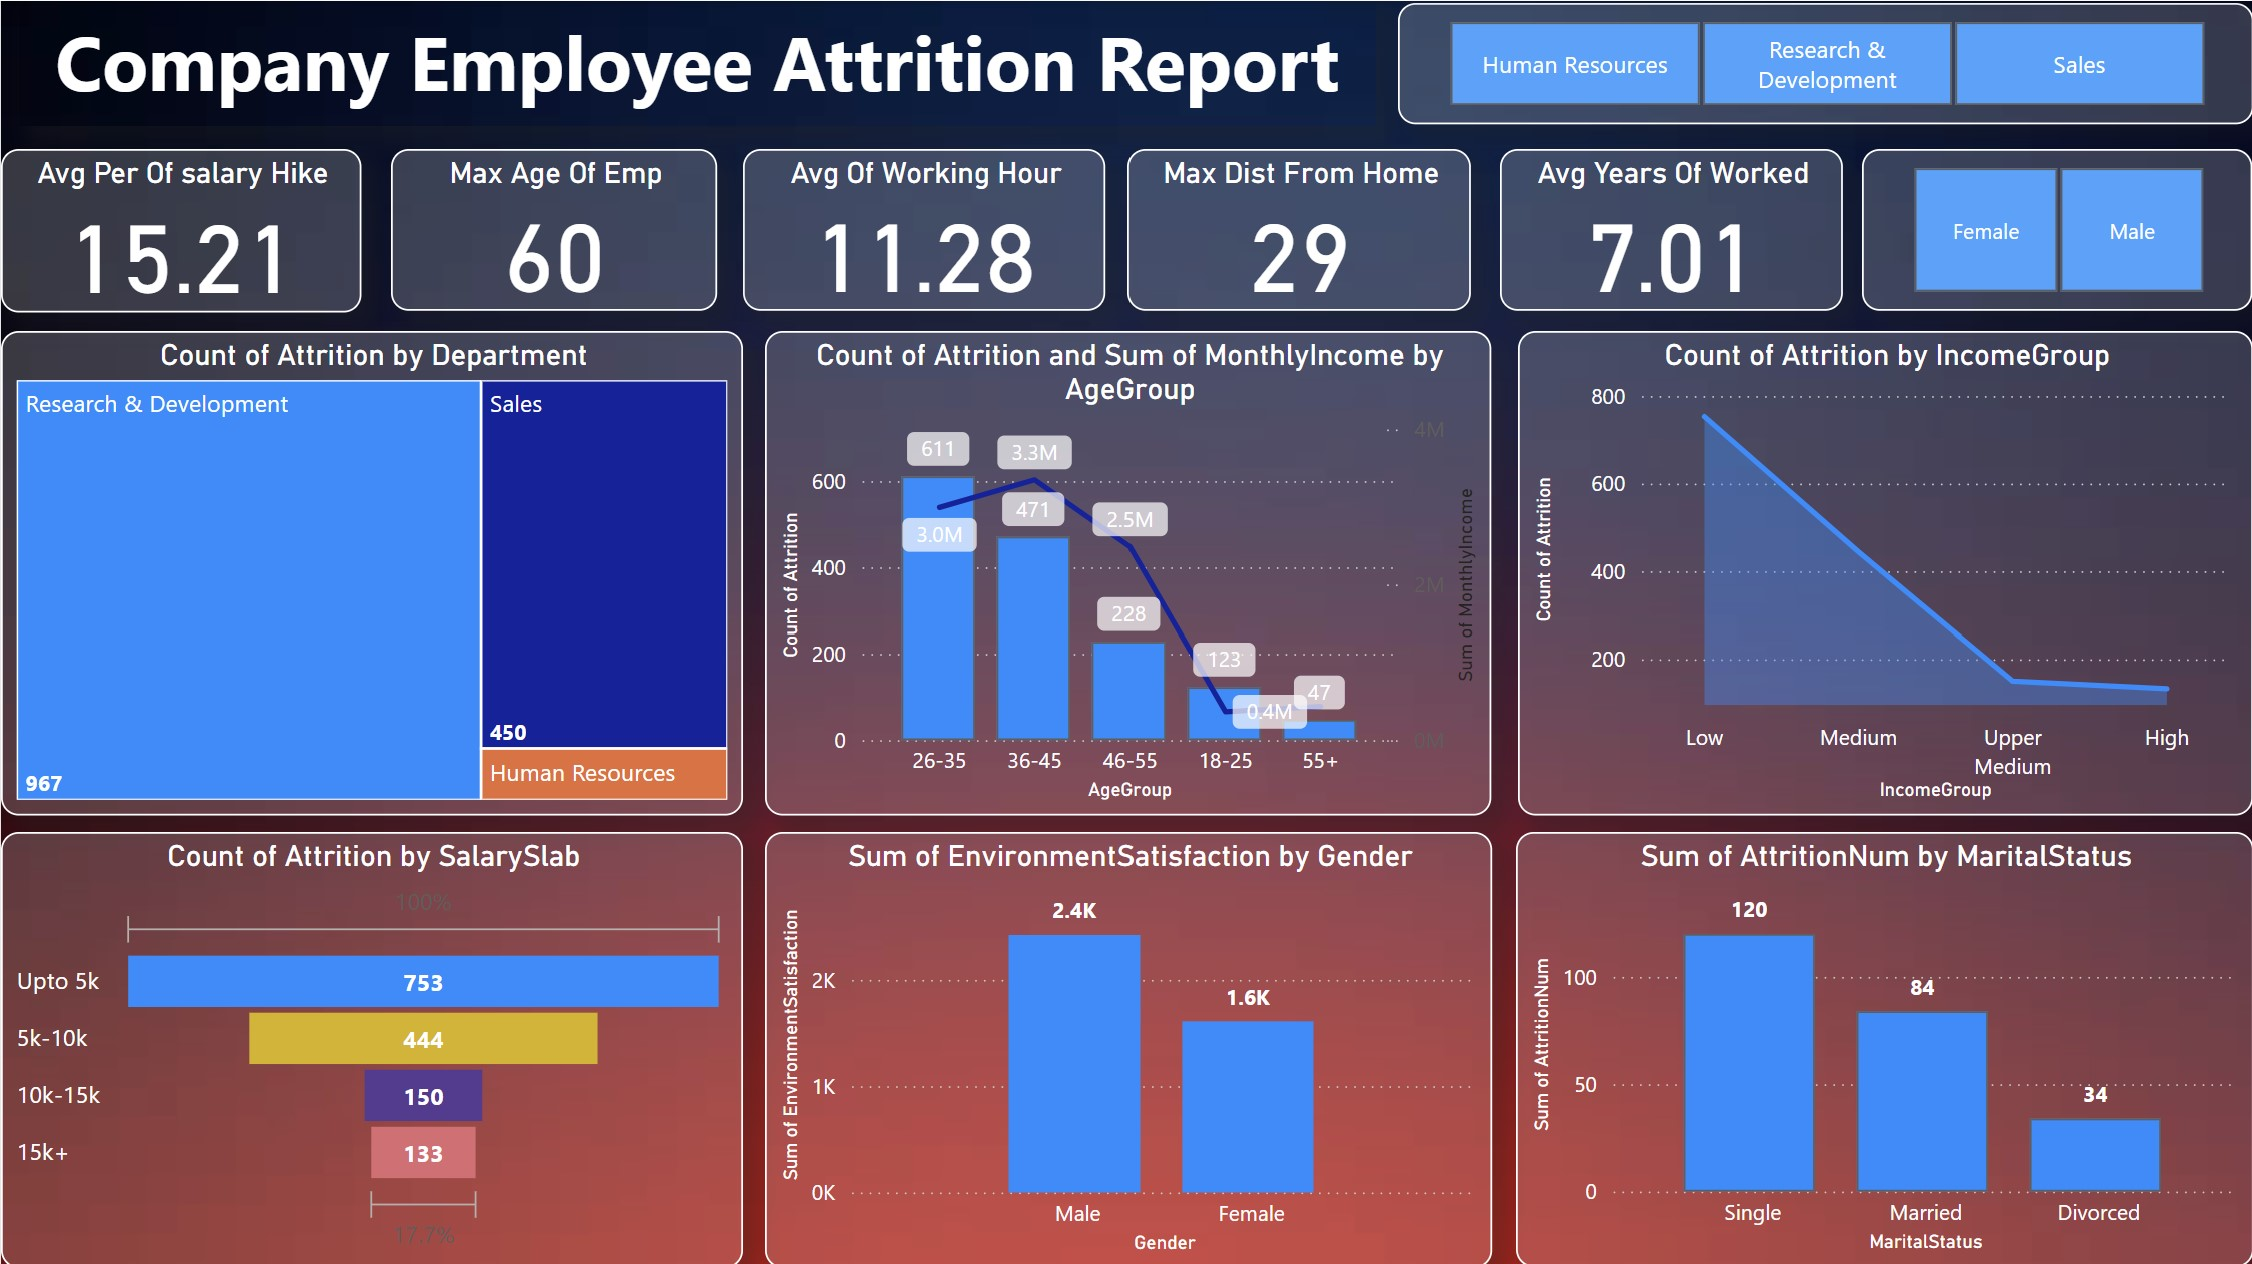

This screenshot's page, from the dashboard's own definition file:
{"tool":"powerbi","page":{"name":"Page 2","canvas":[1280,720],"ordinal":1},"visuals":[{"type":"textbox","box":[9.9,0,771,70.8],"z":0},{"type":"slicer","fields":{"Values":["HR_Analytics.Department"]},"box":[793.7,1.4,486.3,69.1],"z":1000},{"type":"card","title":"Avg Per Of salary Hike","fields":{"Values":["Avg(HR_Analytics.PercentSalaryHike)"]},"box":[0,83.6,205,93.1],"z":2000},{"type":"card","title":"Avg Of Working Hour","fields":{"Values":["Avg(HR_Analytics.TotalWorkingYears)"]},"box":[422.1,83.9,206.2,92.1],"z":3000},{"type":"card","title":"Max Age Of Emp","fields":{"Values":["Max(HR_Analytics.Age)"]},"box":[221.4,83.9,185.6,92.1],"z":4000},{"type":"card","title":"Max Dist From Home","fields":{"Values":["Max(HR_Analytics.DistanceFromHome)"]},"box":[640.7,84,195,92.1],"z":5000},{"type":"card","title":"Avg Years Of Worked","fields":{"Values":["Avg(HR_Analytics.YearsAtCompany)"]},"box":[852.4,83.9,195.2,92.1],"z":6000},{"type":"slicer","fields":{"Values":["HR_Analytics.Gender"]},"box":[1057.9,84,222.1,92.1],"z":7000},{"type":"treemap","fields":{"Group":["HR_Analytics.Department"],"Values":["CountNonNull(HR_Analytics.Attrition)"]},"box":[0,187.5,422.2,275.2],"z":8000},{"type":"lineClusteredColumnComboChart","fields":{"Category":["HR_Analytics.AgeGroup"],"Y":["CountNonNull(HR_Analytics.Attrition)"],"Y2":["Sum(HR_Analytics.MonthlyIncome)"]},"box":[434.3,187.5,412.7,275.2],"z":9000},{"type":"areaChart","fields":{"Y":["CountNonNull(HR_Analytics.Attrition)"],"Category":["HR_Analytics.IncomeGroup"]},"box":[861.9,187.5,418.1,275.2],"z":10000},{"type":"funnel","fields":{"Category":["HR_Analytics.SalarySlab"],"Y":["CountNonNull(HR_Analytics.Attrition)"]},"box":[0,471.8,422.2,248.2],"z":11000},{"type":"clusteredColumnChart","fields":{"Category":["HR_Analytics.Gender"],"Y":["Sum(HR_Analytics.EnvironmentSatisfaction)"]},"box":[434,472,413,248],"z":12000},{"type":"columnChart","fields":{"Category":["HR_Analytics.MaritalStatus"],"Y":["Sum(HR_Analytics.AttritionNum)"]},"box":[860.7,471.6,419.3,247.5],"z":13000}]}

Visuals, with their boxes in screenshot pixels (x1, y1, x2, y2), scaled from the page's 1280x720 canvas onto the 2252x1264 screenshot:
textbox: select_region(17, 0, 1374, 124)
slicer - HR_Analytics.Department: select_region(1396, 2, 2251, 124)
"Avg Per Of salary Hike" card: select_region(0, 147, 361, 310)
"Avg Of Working Hour" card: select_region(743, 147, 1105, 309)
"Max Age Of Emp" card: select_region(390, 147, 716, 309)
"Max Dist From Home" card: select_region(1127, 147, 1470, 309)
"Avg Years Of Worked" card: select_region(1500, 147, 1843, 309)
slicer - HR_Analytics.Gender: select_region(1861, 147, 2251, 309)
treemap - HR_Analytics.Department x CountNonNull(HR_Analytics.Attrition): select_region(0, 329, 743, 812)
lineClusteredColumnComboChart - HR_Analytics.AgeGroup x CountNonNull(HR_Analytics.Attrition): select_region(764, 329, 1490, 812)
areaChart - CountNonNull(HR_Analytics.Attrition) x HR_Analytics.IncomeGroup: select_region(1516, 329, 2251, 812)
funnel - HR_Analytics.SalarySlab x CountNonNull(HR_Analytics.Attrition): select_region(0, 828, 743, 1263)
clusteredColumnChart - HR_Analytics.Gender x Sum(HR_Analytics.EnvironmentSatisfaction): select_region(764, 829, 1490, 1263)
columnChart - HR_Analytics.MaritalStatus x Sum(HR_Analytics.AttritionNum): select_region(1514, 828, 2251, 1262)
